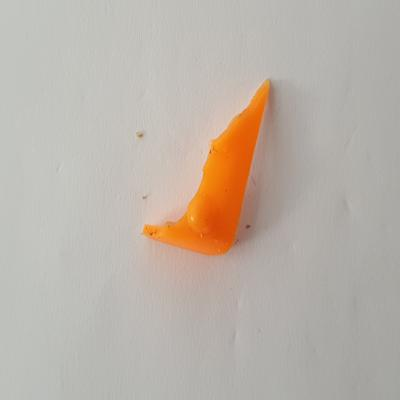plastic: (138, 77, 282, 260)
